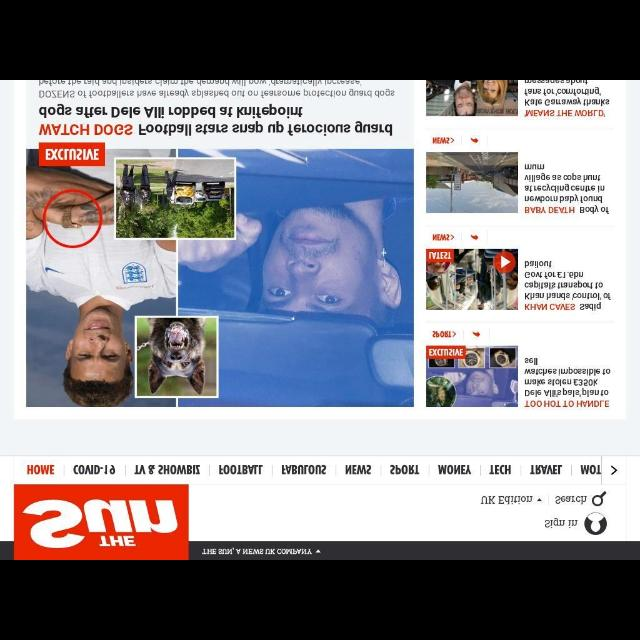icon: (582, 510, 608, 536), (592, 492, 604, 506), (608, 464, 620, 478), (470, 229, 480, 245), (468, 136, 480, 148), (473, 328, 482, 340), (314, 547, 322, 557), (536, 497, 542, 503)
image: (27, 142, 413, 408), (15, 487, 188, 559), (428, 250, 518, 312), (427, 153, 518, 213), (426, 349, 516, 407), (426, 80, 518, 116)
link: (433, 230, 455, 243), (430, 330, 458, 340), (432, 136, 456, 144)
multitab: (2, 454, 638, 484)
spinner: (198, 543, 326, 559), (471, 490, 547, 512)
text: (39, 81, 398, 141), (522, 154, 612, 218), (522, 352, 614, 410), (522, 258, 612, 314), (522, 81, 610, 121), (132, 458, 202, 477), (202, 546, 312, 558), (278, 459, 330, 479), (216, 461, 268, 477), (434, 458, 474, 478), (387, 460, 425, 478), (74, 461, 116, 477), (554, 492, 586, 510), (545, 515, 579, 531), (24, 463, 58, 479), (528, 460, 560, 476), (481, 496, 532, 506), (343, 462, 373, 478), (576, 462, 602, 478), (486, 462, 512, 476)
toolbar: (191, 484, 639, 542)
